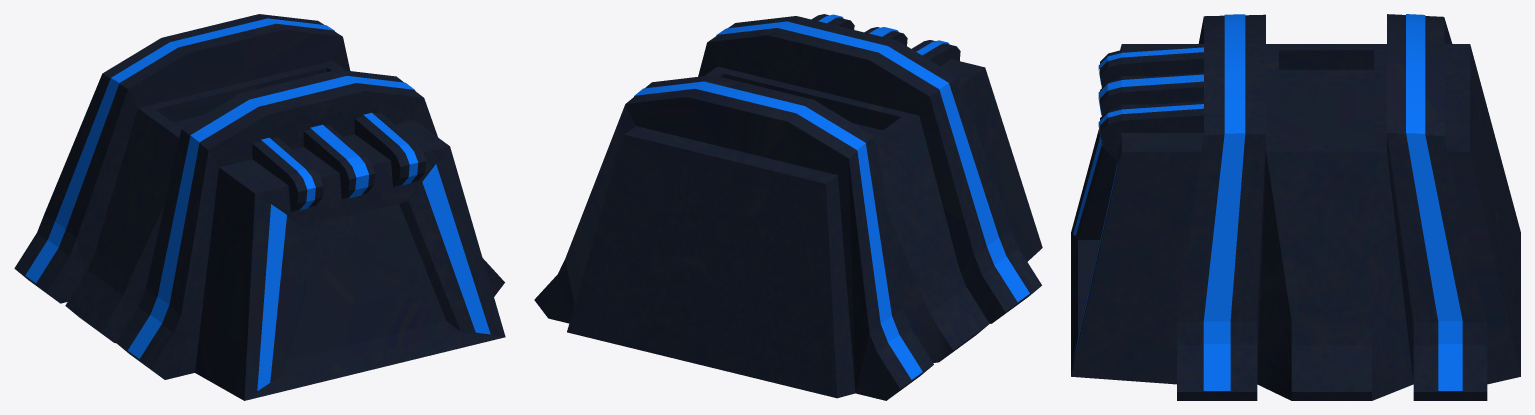
File: Blue Factory.fbx
3 views of the same model, side by side, from view 1: azimuth 30°, elevation 25°; view 2: azimuth 150°, elevation 25°; view 3: azimuth 270°, elevation 25° (orthographic). The views are drawn at different scales.
Visible parts, largest first — view 1: Blue Factory, Neon7; view 2: Blue Factory, Neon7; view 3: Blue Factory, Neon7.
Boxes of the visible parts, x1,y1,x2,y2 form: Blue Factory: (14, 14, 505, 400); Neon7: (25, 18, 490, 390); Blue Factory: (534, 14, 1042, 400); Neon7: (634, 14, 1029, 379); Blue Factory: (1071, 14, 1520, 400); Neon7: (1073, 14, 1462, 390).
Size of the model in its own units: 40.79 by 25.41 by 39.66.
